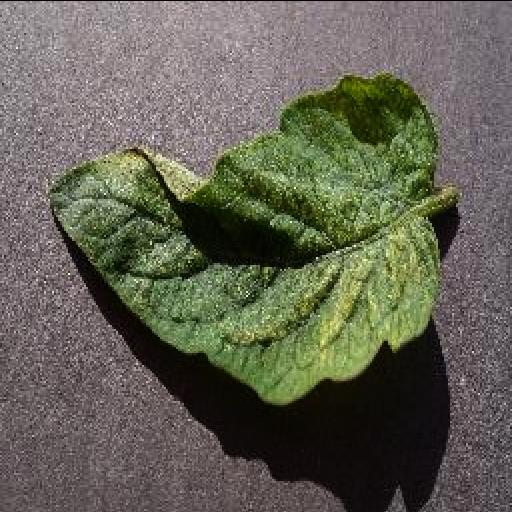disease_tomato: (54, 72, 442, 406)
